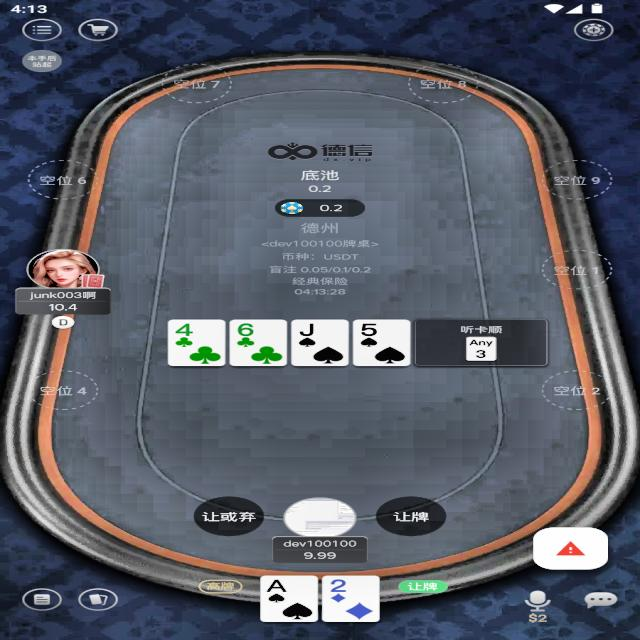2f: (326, 577, 349, 595)
4m: (172, 320, 196, 338)
5s: (358, 321, 380, 337)
6m: (234, 320, 257, 338)
As: (264, 578, 291, 594)
Js: (296, 320, 318, 338)
